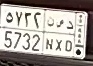2: (31, 12, 41, 52)
3: (23, 12, 32, 50)
5: (4, 12, 14, 48)
7: (13, 11, 23, 49)
D: (65, 21, 74, 52), (73, 20, 74, 21)
N: (46, 16, 55, 50)
X: (55, 19, 64, 51)
